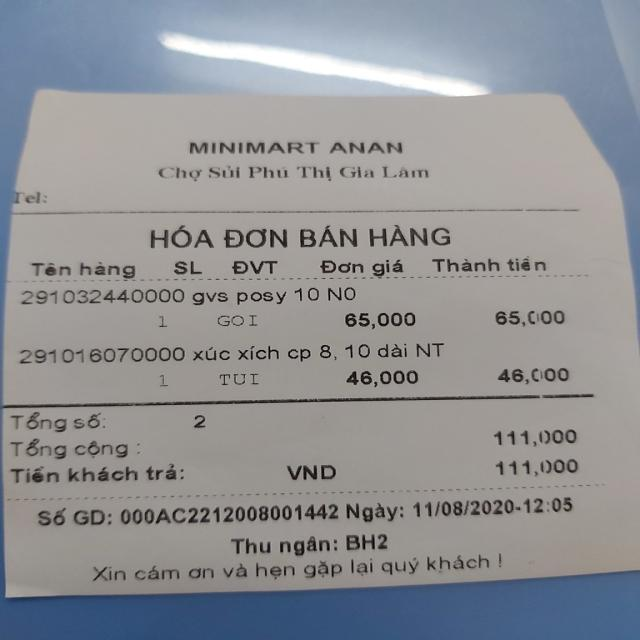Date: (414, 496, 519, 517)
Store_Name: (184, 134, 414, 158)
amount_number: (487, 425, 587, 448)
label_total: (8, 437, 131, 458)
